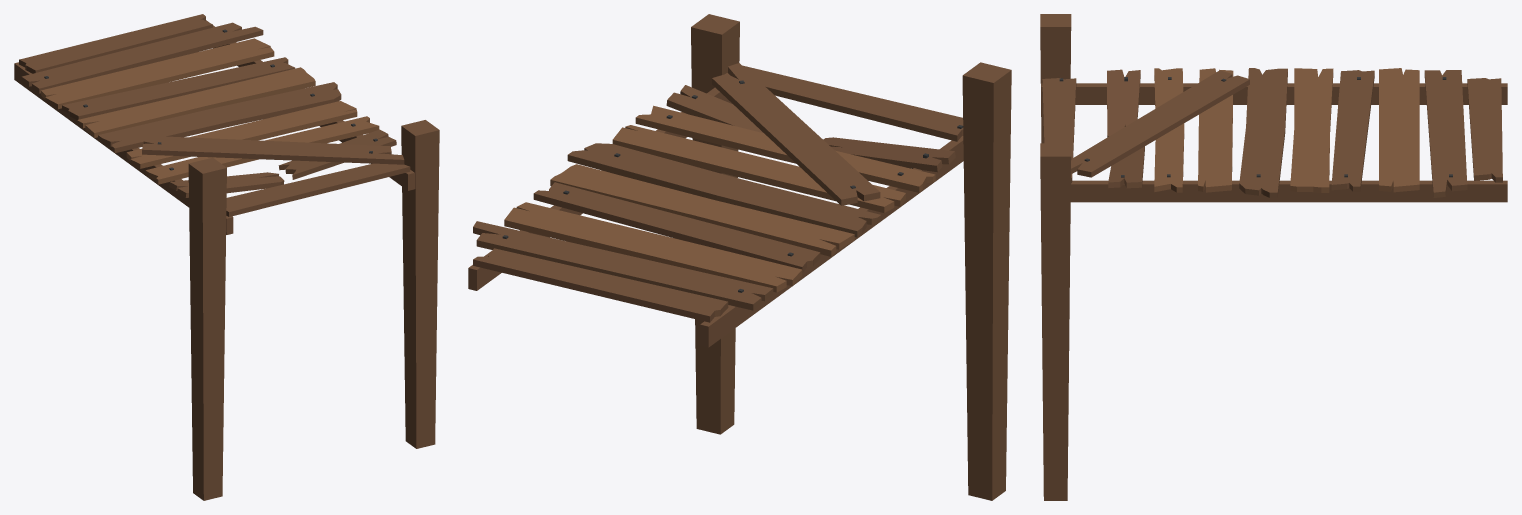
Rendered from Pier_04.fbx.
3 renders of one model, left to right at view 1: azimuth 30°, elevation 25°; view 2: azimuth 150°, elevation 25°; view 3: azimuth 270°, elevation 25°, orthographic. The views are drawn at different scales.
Visible parts, largest first — view 1: Pier_04_LOD0; view 2: Pier_04_LOD0; view 3: Pier_04_LOD0.
Boxes of the visible parts, x1,y1,x2,y2 form: Pier_04_LOD0: (14,14,439,500); Pier_04_LOD0: (468,14,1011,500); Pier_04_LOD0: (1040,14,1507,500).
Size of what is drawn, in the model's own units: 1.91 by 2.51 by 2.94.
